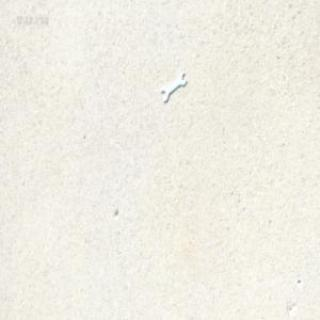Wrenchtrack_idkeyframe: (161, 71, 186, 103)
